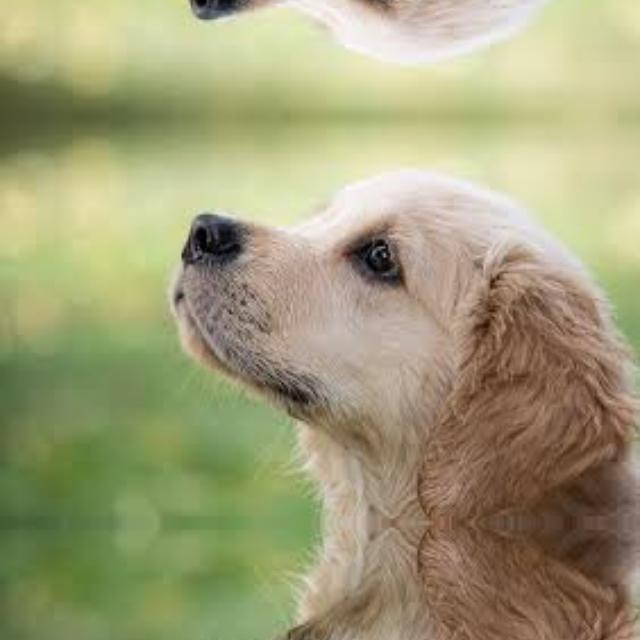dog: (162, 140, 640, 522), (162, 522, 640, 640), (162, 0, 640, 92)
